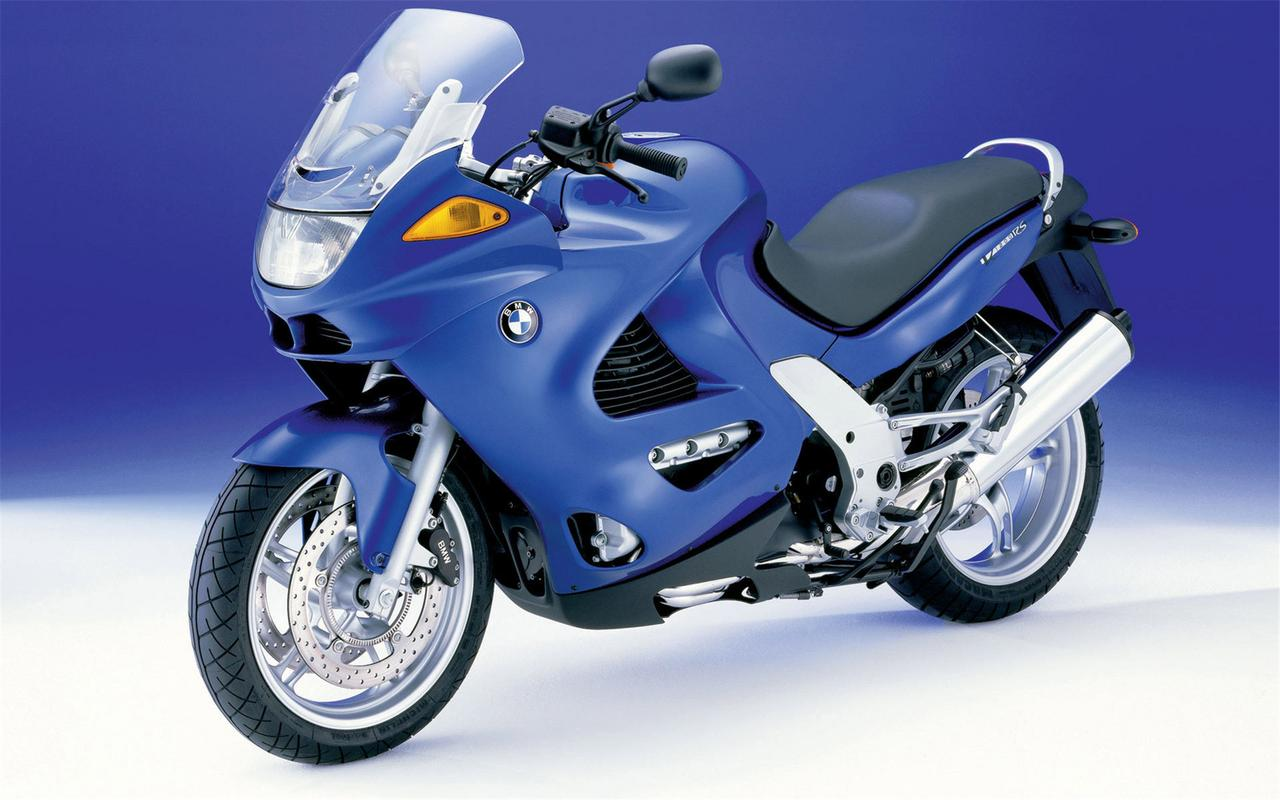摩托车: (164, 1, 1169, 779)
